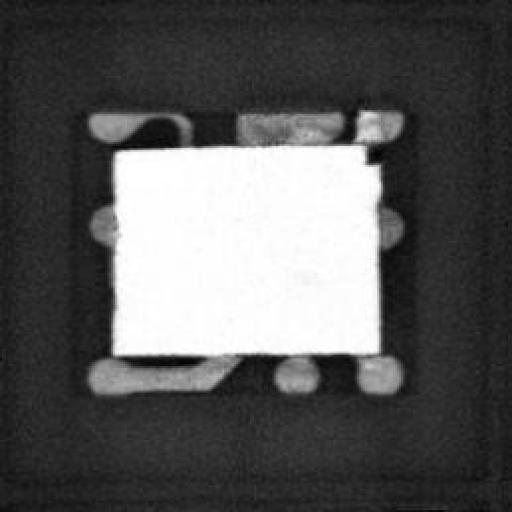DIE_BROKEN: (359, 136, 383, 167)
